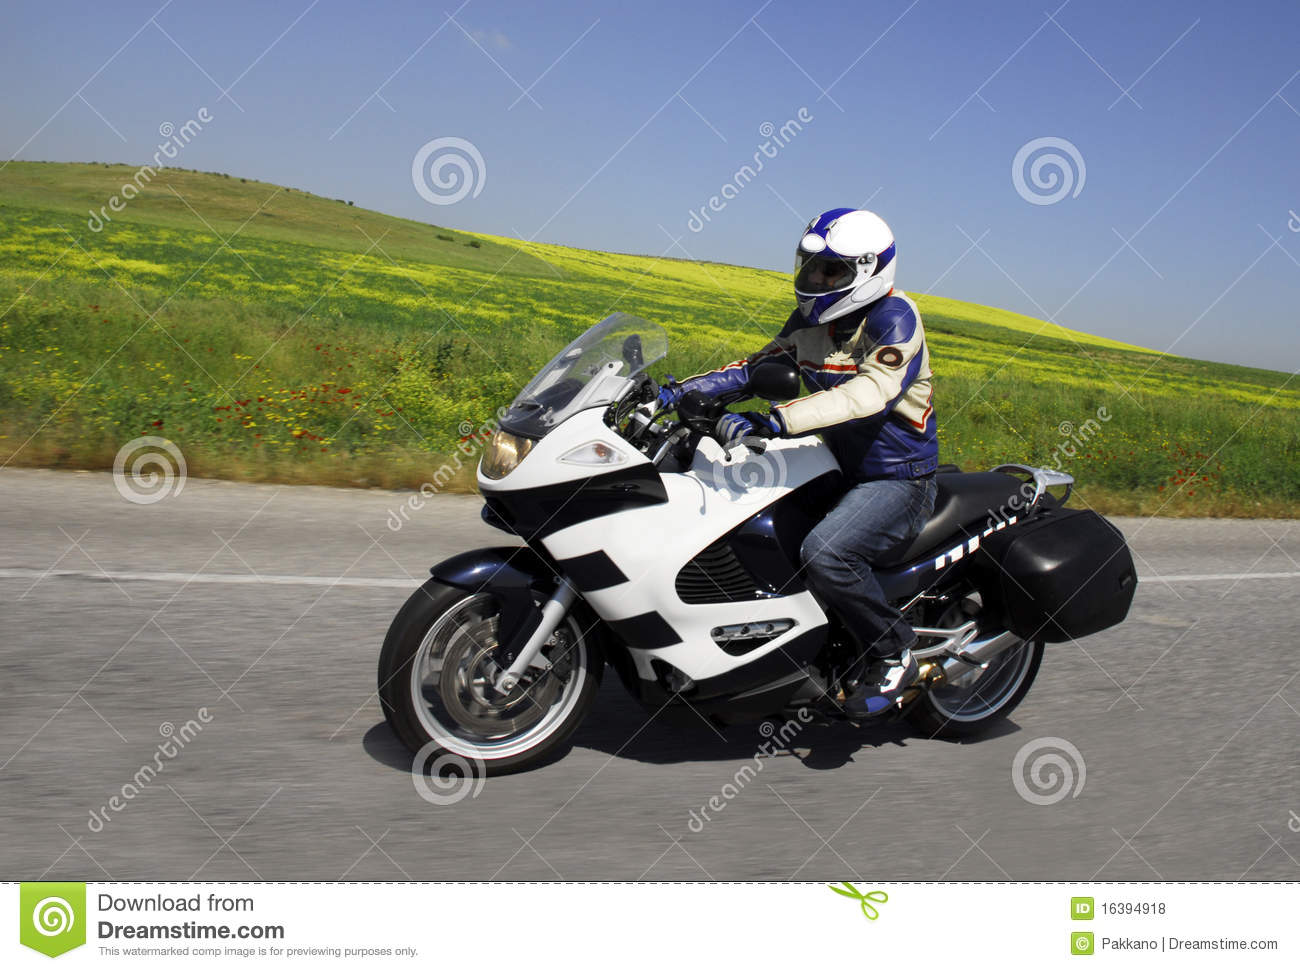helmet: (799, 211, 899, 304)
